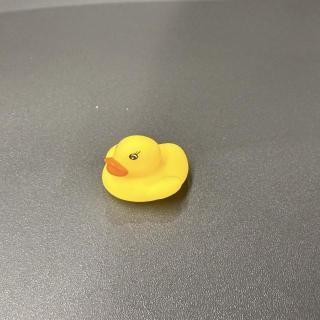duck_regular: (102, 134, 190, 204)
